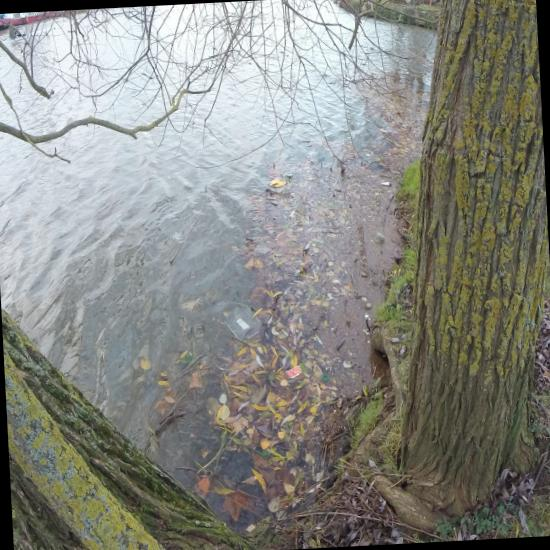Plastic bottle cap: (323, 375, 329, 381)
Tupperware: (225, 305, 263, 339)
Unlabeled litter: (286, 366, 301, 379), (375, 232, 385, 244), (381, 182, 392, 186)
